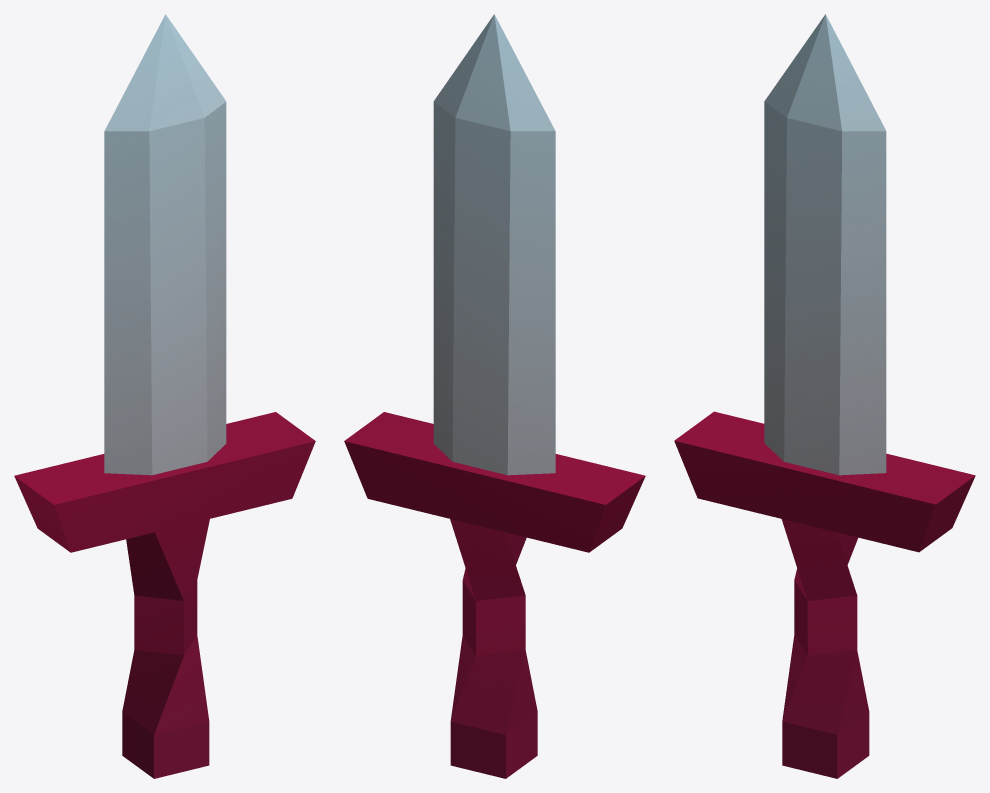
Rendered from sword.fbx.
The picture shows the model from 3 angles, left to right: view 1: azimuth 30°, elevation 25°; view 2: azimuth 150°, elevation 25°; view 3: azimuth 330°, elevation 25°; orthographic projection.
Visible parts, largest first — view 1: Cube.002; view 2: Cube.002; view 3: Cube.002.
Part boxes in pixels (x1,y1,x2,y2): Cube.002: (14,14,315,778); Cube.002: (344,14,645,778); Cube.002: (674,14,975,778).
Bounding box in the file's own units: 29.33 × 79.94 × 7.75.
